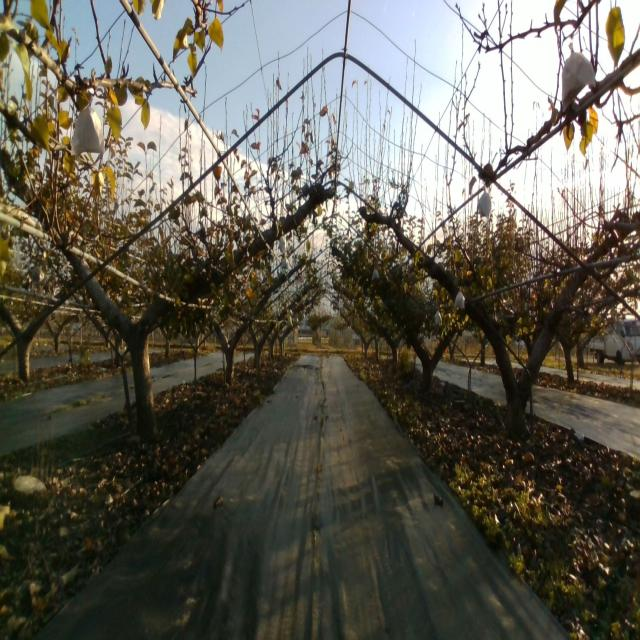pearbags: (560, 40, 596, 110), (71, 104, 105, 154), (477, 187, 492, 218), (454, 285, 466, 311)
